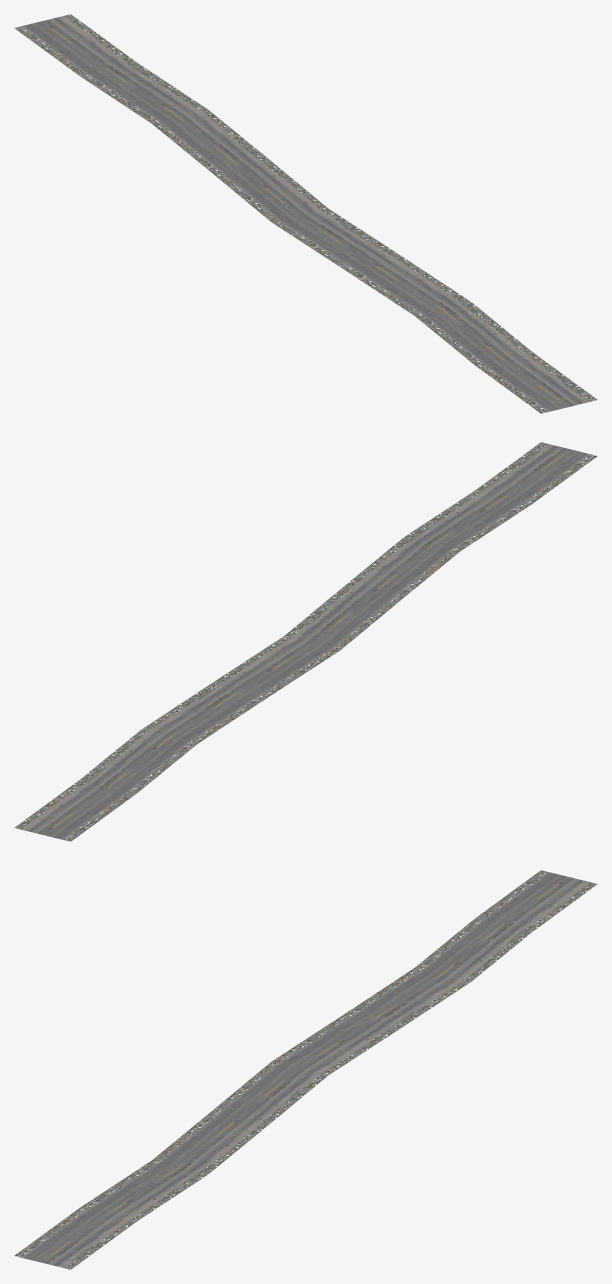
File: road.fbx
The picture shows the model from 3 angles, top to bottom: view 1: azimuth 30°, elevation 25°; view 2: azimuth 150°, elevation 25°; view 3: azimuth 330°, elevation 25°; orthographic projection.
Parts seen in each view (by area): view 1: pPlane1; view 2: pPlane1; view 3: pPlane1.
Part boxes in pixels (box(x1,y1,x2,y2)): pPlane1: box(14, 14, 597, 413); pPlane1: box(14, 442, 597, 841); pPlane1: box(14, 870, 597, 1269).
Size of the model in its own units: 28.57 by 0 by 381.
1 material, 1 textured.
